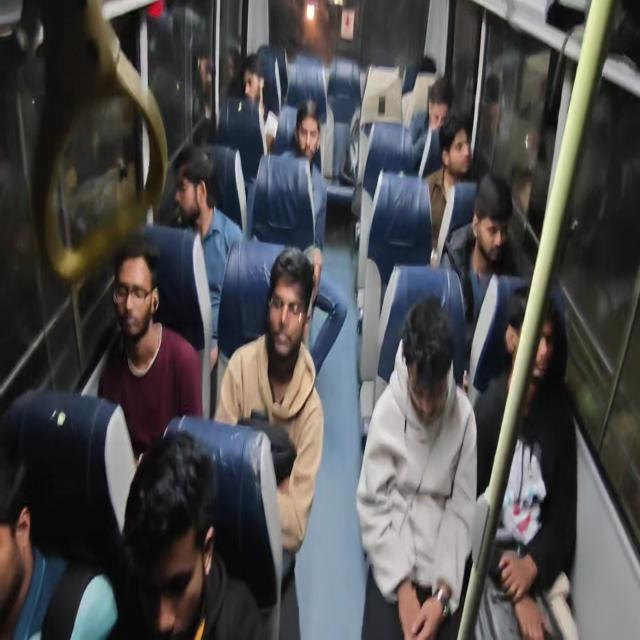person: (138, 461, 270, 640), (0, 417, 84, 640), (402, 306, 484, 499), (103, 234, 187, 399), (499, 263, 560, 425), (253, 237, 311, 371), (157, 148, 239, 234), (439, 116, 489, 213), (473, 172, 514, 265), (424, 75, 476, 147), (236, 66, 290, 123), (292, 101, 321, 160), (419, 50, 440, 96)
